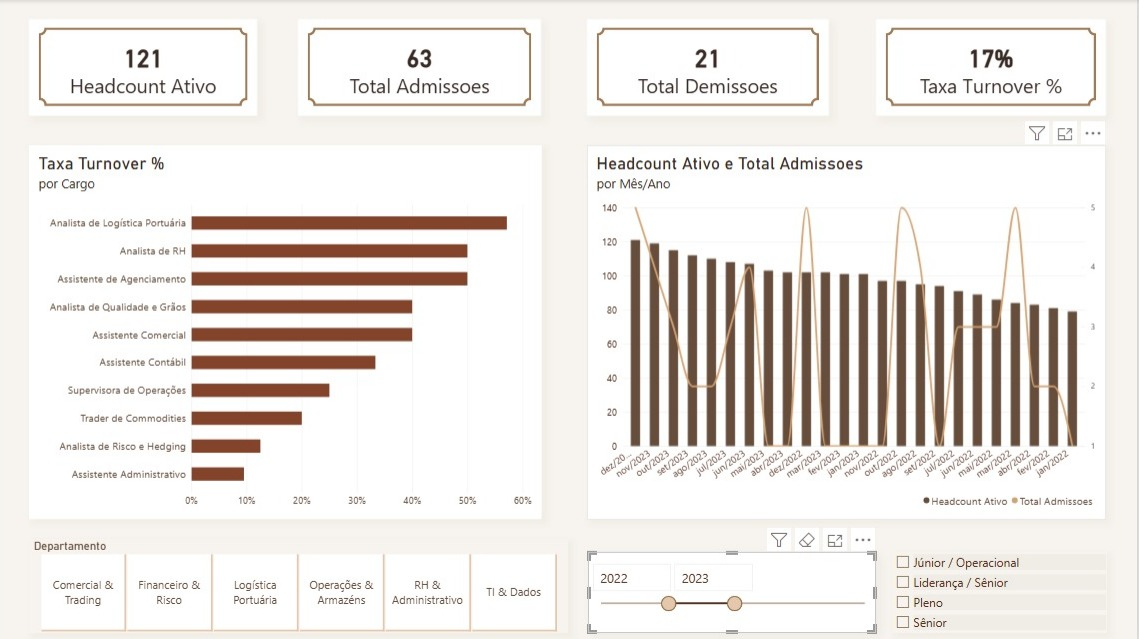

The page's visual inventory and layout, read from the dashboard file:
{"tool":"powerbi","page":{"name":"Visão Geral","canvas":[1920,1080],"ordinal":0},"visuals":[{"type":"advanceCardE03760C5AB684758B56AA29F9E6C257B","fields":{"mainMeasure":["_Medidas.Headcount Ativo"]},"box":[50,32.5,385,162.5],"z":0},{"type":"advanceCardE03760C5AB684758B56AA29F9E6C257B","fields":{"mainMeasure":["_Medidas.Total Admissoes"]},"box":[505,32.5,410,162.5],"z":1000},{"type":"advanceCardE03760C5AB684758B56AA29F9E6C257B","fields":{"mainMeasure":["_Medidas.Total Demissoes"]},"box":[992.5,32.5,407.5,162.5],"z":2000},{"type":"advanceCardE03760C5AB684758B56AA29F9E6C257B","fields":{"mainMeasure":["_Medidas.Taxa Turnover %"]},"box":[1480,32.5,387.5,162.5],"z":3000},{"type":"lineStackedColumnComboChart","fields":{"Category":["dCalendario.Mês/Ano"],"Y":["_Medidas.Headcount Ativo"],"Y2":["_Medidas.Total Admissoes"]},"box":[992.5,245,875,630],"z":4000},{"type":"slicer","fields":{"Values":["dCalendario.Ano"]},"box":[993.3,930,486.7,136.7],"z":5000},{"type":"slicer","fields":{"Values":["Dados.Departamento"]},"box":[50,908.3,910,158.3],"z":6000},{"type":"slicer","fields":{"Values":["Dados.Nivel"]},"box":[1506.7,930,361.7,136.7],"z":7000},{"type":"barChart","fields":{"Category":["Dados.Cargo"],"Y":["_Medidas.Taxa Turnover %"]},"box":[50,245,865,630],"z":8000}]}

Visuals, with their boxes in screenshot pixels (x1, y1, x2, y2), scaled from the page's 1920x1080 canvas onto the 1139x639 screenshot:
advanceCardE03760C5AB684758B56AA29F9E6C257B - _Medidas.Headcount Ativo: box=[30, 19, 258, 115]
advanceCardE03760C5AB684758B56AA29F9E6C257B - _Medidas.Total Admissoes: box=[300, 19, 543, 115]
advanceCardE03760C5AB684758B56AA29F9E6C257B - _Medidas.Total Demissoes: box=[589, 19, 831, 115]
advanceCardE03760C5AB684758B56AA29F9E6C257B - _Medidas.Taxa Turnover %: box=[878, 19, 1108, 115]
lineStackedColumnComboChart - dCalendario.Mês/Ano x _Medidas.Headcount Ativo: box=[589, 145, 1108, 518]
slicer - dCalendario.Ano: box=[589, 550, 878, 631]
slicer - Dados.Departamento: box=[30, 537, 570, 631]
slicer - Dados.Nivel: box=[894, 550, 1108, 631]
barChart - Dados.Cargo x _Medidas.Taxa Turnover %: box=[30, 145, 543, 518]
